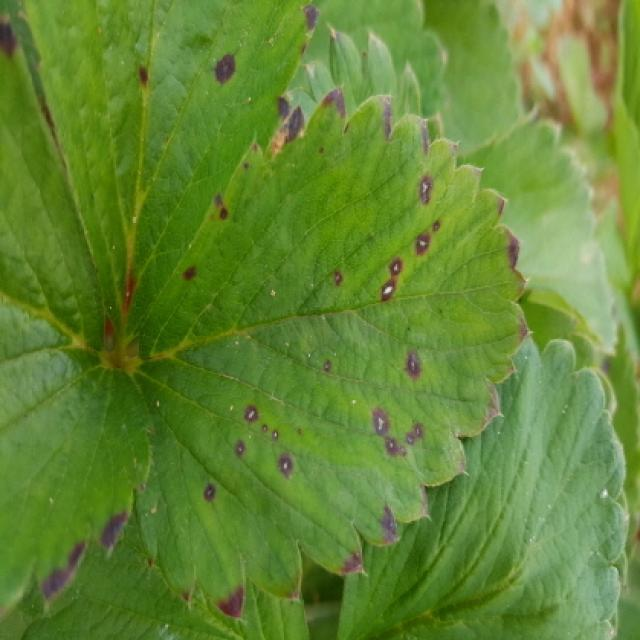Leaf Spot: (118, 84, 533, 624), (20, 0, 318, 351)
